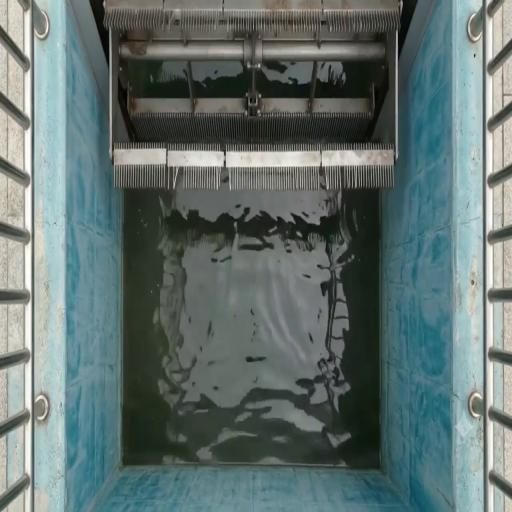rake_broken: (200, 0, 251, 50), (308, 154, 359, 204), (151, 150, 203, 199), (308, 1, 361, 49), (152, 0, 196, 48), (209, 151, 243, 206)
